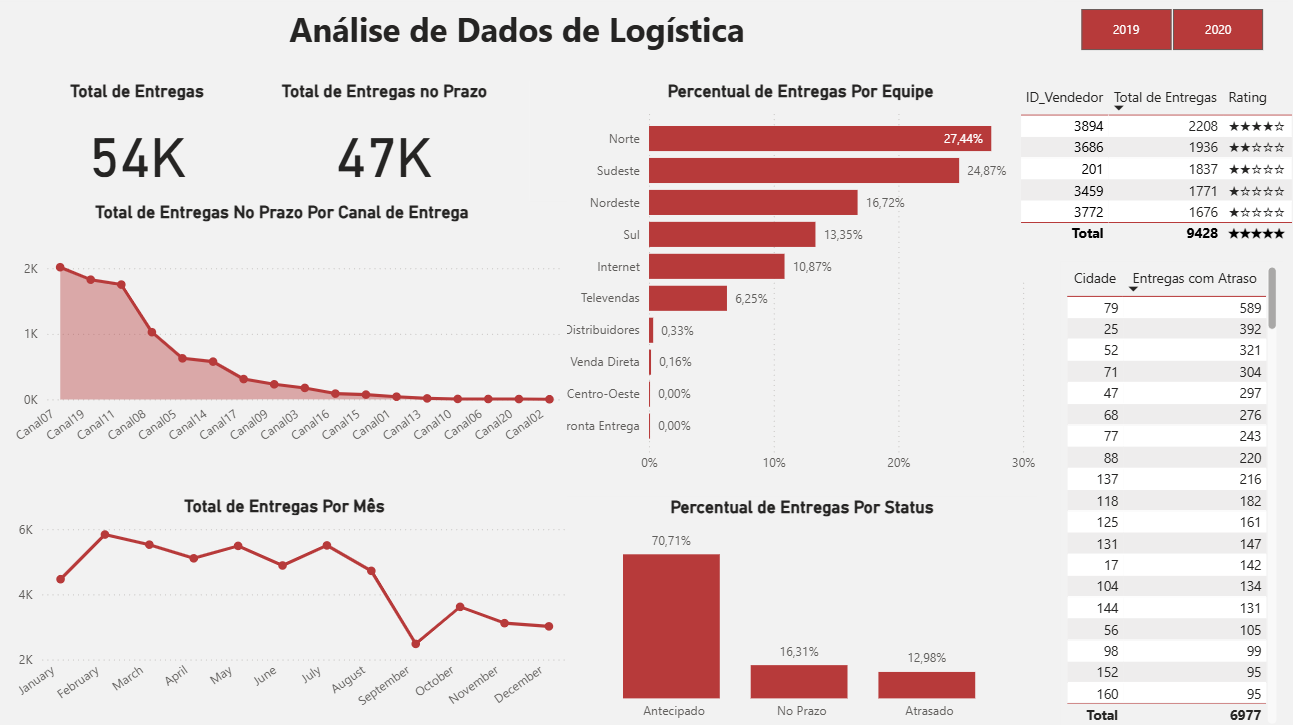

The page's visual inventory and layout, read from the dashboard file:
{"tool":"powerbi","page":{"name":"Page 1","canvas":[1280,720],"ordinal":0},"visuals":[{"type":"clusteredBarChart","title":"Percentual de Entregas Por Equipe","fields":{"Category":["Logistica.Equipe_Entrega"],"Y":["Medidas.Total de Entregas"]},"box":[538,85.6,496.5,392.5],"z":0},{"type":"lineChart","title":"Total de Entregas Por Mês","fields":{"Category":["Logistica.Data_Entrega_Realizada.Variation.Date Hierarchy.Month"],"Y":["Medidas.Total de Entregas"]},"box":[0,491.6,562.5,228.7],"z":1000},{"type":"columnChart","title":"Percentual de Entregas Por Status","fields":{"Category":["Logistica.Status_Entrega"],"Y":["CountNonNull(Logistica.Status_Entrega)"]},"box":[557.6,492.8,459.8,227.4],"z":2000},{"type":"card","title":"Total de Entregas","fields":{"Values":["Medidas.Total de Entregas"]},"box":[0,85.6,273.9,118.6],"z":3000},{"type":"card","title":"Total de Entregas no Prazo","fields":{"Values":["Medidas.Total de Entregas no Prazo"]},"box":[237.2,85.6,283.7,118.6],"z":4000},{"type":"textbox","box":[0,8.8,1017.3,53.9],"z":5000},{"type":"slicer","fields":{"Values":["Logistica.Data_Entrega_Realizada.Variation.Date Hierarchy.Year"]},"box":[1034.8,8.8,228.3,53.9],"z":6000},{"type":"areaChart","title":"Total de Entregas No Prazo Por Canal de Entrega","fields":{"Category":["Logistica.Canal_Entrega"],"Y":["Medidas.Total de Entregas"]},"box":[0,204.2,557.6,255.6],"z":7000},{"type":"tableEx","fields":{"Values":["Logistica.ID_Vendedor","Medidas.Total de Entregas","Medidas.Rating"]},"box":[995.4,85.6,284.9,195.7],"z":8000},{"type":"tableEx","fields":{"Values":["Logistica.ID_Cidade","Medidas.Total de Entregas"]},"box":[1040.6,262.9,216.4,457.3],"z":9000}]}

Visuals, with their boxes in screenshot pixels (x1, y1, x2, y2), scaled from the page's 1280x720 canvas onto the 1293x725 screenshot:
"Percentual de Entregas Por Equipe" clusteredBarChart: 543, 86, 1045, 481
"Total de Entregas Por Mês" lineChart: 0, 495, 568, 724
"Percentual de Entregas Por Status" columnChart: 563, 496, 1028, 724
"Total de Entregas" card: 0, 86, 277, 206
"Total de Entregas no Prazo" card: 240, 86, 526, 206
textbox: 0, 9, 1028, 63
slicer - Logistica.Data_Entrega_Realizada.Variation.Date Hierarchy.Year: 1045, 9, 1276, 63
"Total de Entregas No Prazo Por Canal de Entrega" areaChart: 0, 206, 563, 463
tableEx - Logistica.ID_Vendedor x Medidas.Total de Entregas: 1006, 86, 1292, 283
tableEx - Logistica.ID_Cidade x Medidas.Total de Entregas: 1051, 265, 1270, 724
